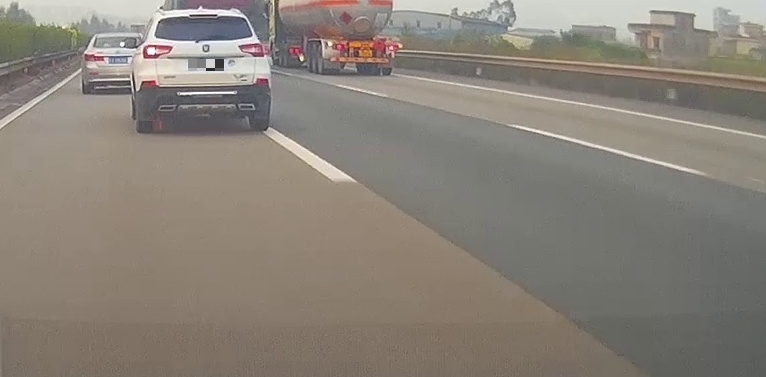L_light: (142, 44, 173, 58), (333, 44, 344, 49)
R_light: (238, 43, 264, 58), (388, 44, 399, 51)
T_light: (189, 13, 218, 18), (361, 41, 370, 44)
day-left: (134, 9, 270, 134)
day-no: (321, 36, 403, 75)
plate_1: (188, 59, 224, 71)
